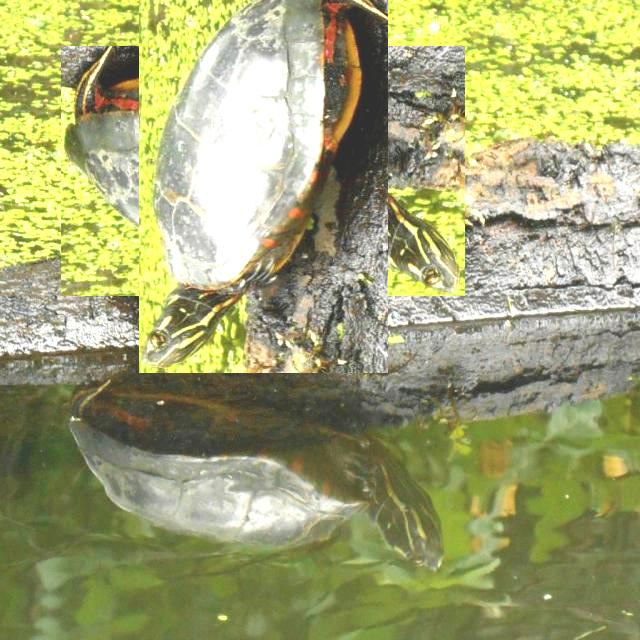Sea turtle: (100, 8, 427, 334)
